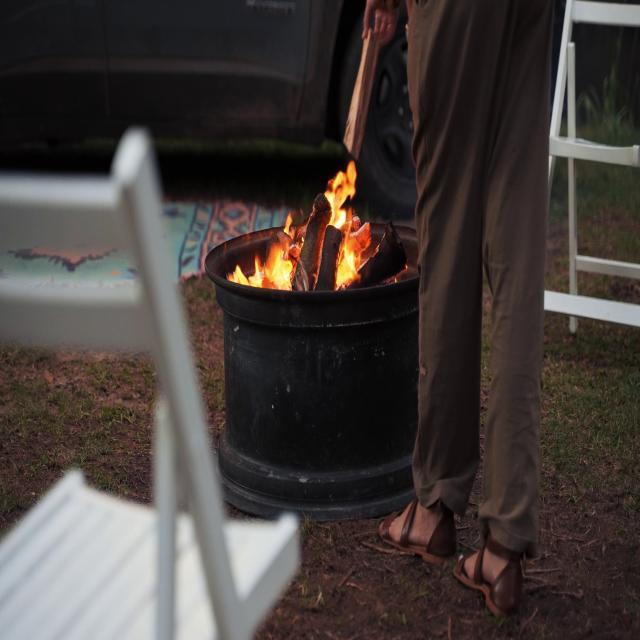Fire: (232, 153, 378, 295)
